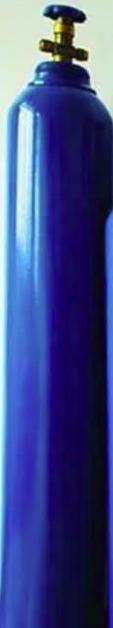cylinder: (1, 1, 113, 628)
